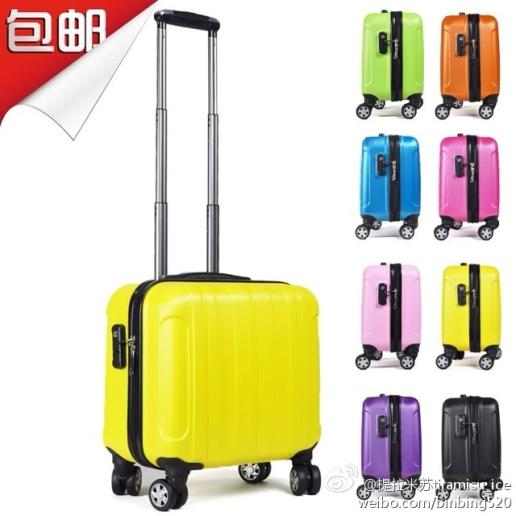luggage: (358, 9, 426, 121), (436, 10, 504, 120), (433, 133, 501, 243), (354, 130, 422, 240), (355, 262, 423, 372), (436, 262, 504, 372)
